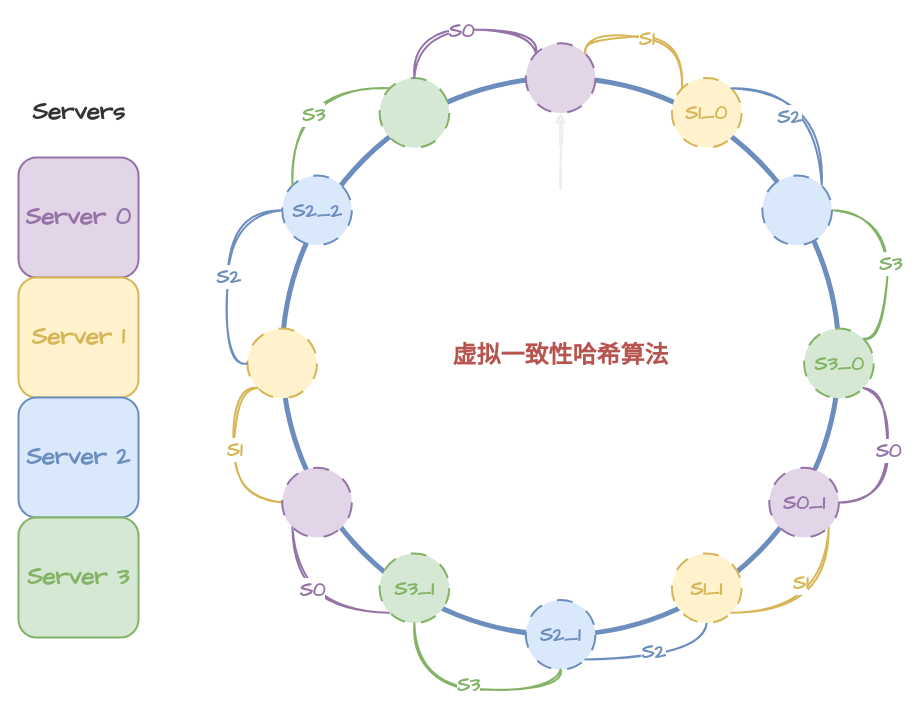
The diagram is 919 pixels wide and 715 high, and some of its shapes have lost their labels. Each missing label, with the centre of its shape:
"S0_0" goes at (x=560, y=77).
"S0_2" goes at (x=316, y=502).
"S1_2" goes at (x=282, y=363).
"S2_0" goes at (x=796, y=210).
"S3_2" goes at (x=414, y=112).
